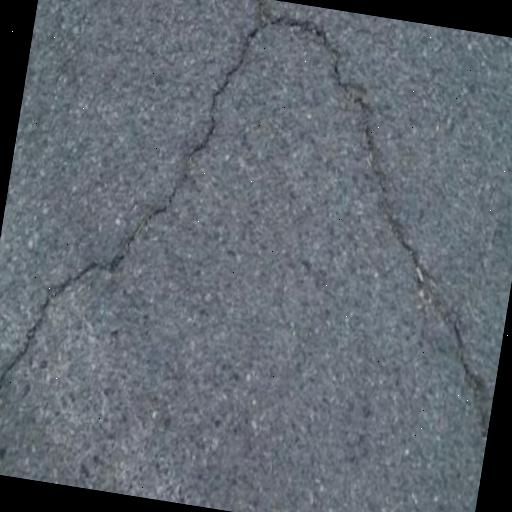spalling: (0, 10, 493, 451)
